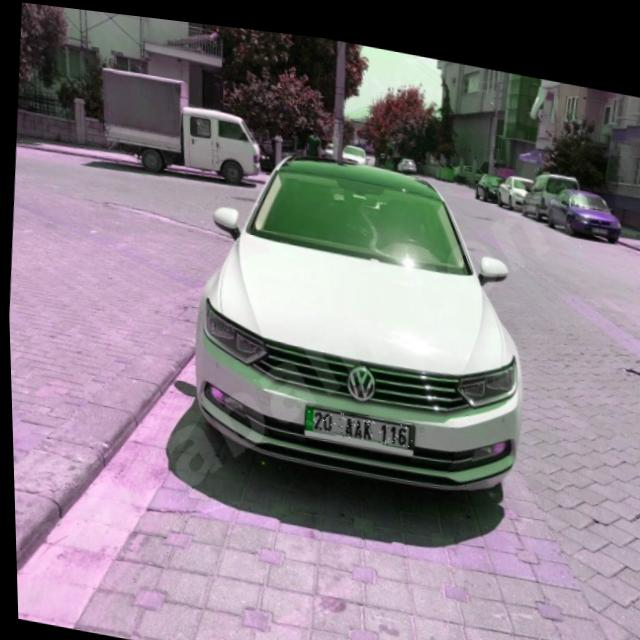license_plate: (303, 399, 411, 439)
